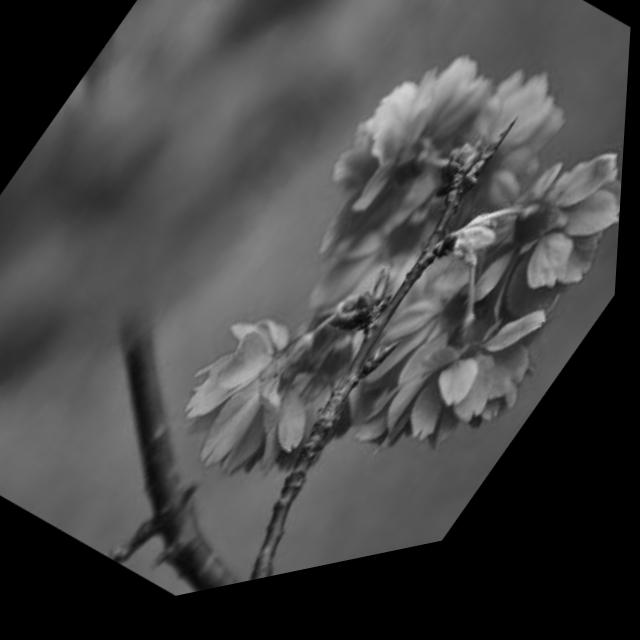Flower: (314, 192, 612, 533), (142, 222, 420, 539), (365, 38, 615, 339), (299, 52, 505, 298), (455, 129, 629, 375)
